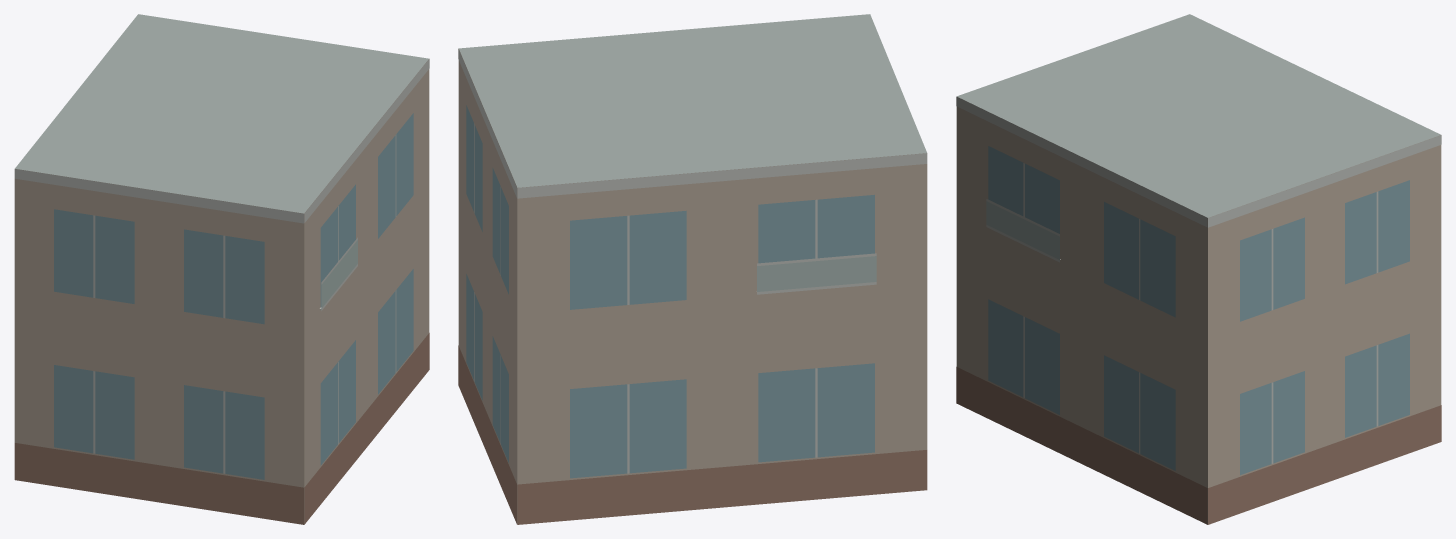
File: survey-upis-32603994.glb
The picture shows the model from 3 angles, left to right: view 1: azimuth 30°, elevation 25°; view 2: azimuth 150°, elevation 25°; view 3: azimuth 270°, elevation 25°; orthographic projection. The views are drawn at different scales.
Parts seen in each view (by area): view 1: survey-upis-32603994.tmp; view 2: survey-upis-32603994.tmp; view 3: survey-upis-32603994.tmp.
Part boxes in pixels (x1=…): survey-upis-32603994.tmp: x1=14, y1=14, x2=429, y2=524; survey-upis-32603994.tmp: x1=458, y1=14, x2=927, y2=524; survey-upis-32603994.tmp: x1=956, y1=14, x2=1441, y2=524.
Size of the model in its own units: 10.84 by 7.6 by 10.89.
